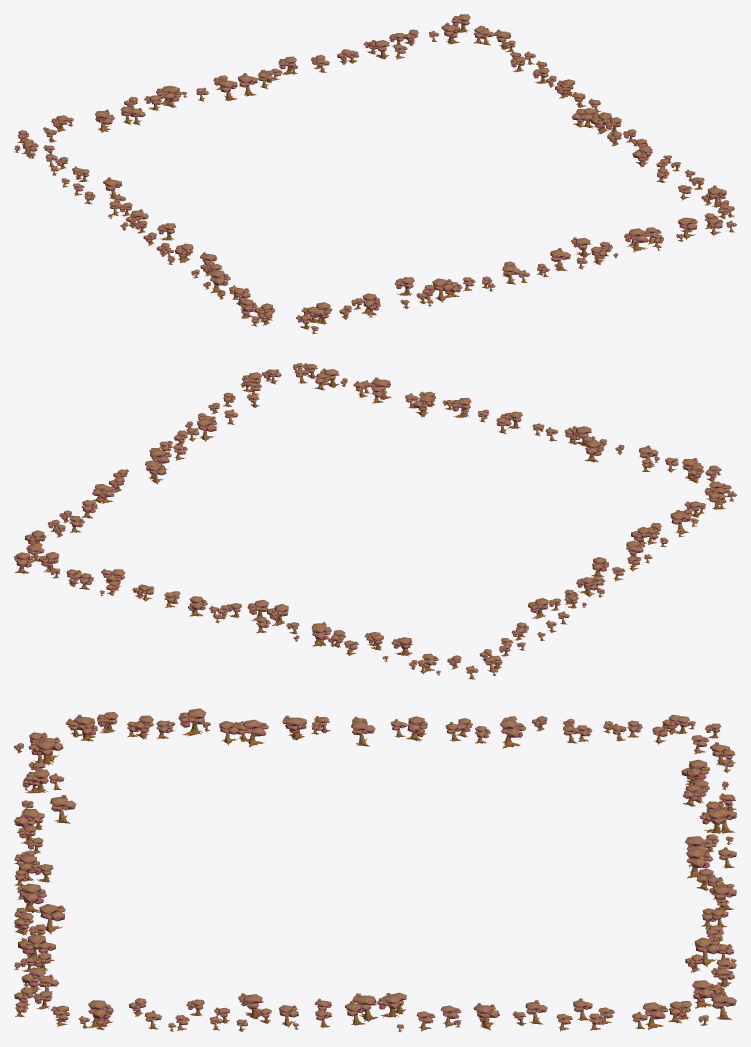
File: vegetation-arbres.glb
The picture shows the model from 3 angles, top to bottom: view 1: azimuth 30°, elevation 25°; view 2: azimuth 150°, elevation 25°; view 3: azimuth 270°, elevation 25°; orthographic projection. The views are drawn at different scales.
Visible parts, largest first — view 1: plat; view 2: plat; view 3: plat.
Part boxes in pixels (<box>): plat: <box>14,14,736,334</box>; plat: <box>14,363,736,679</box>; plat: <box>14,708,736,1032</box>.
Bounding box in the file's own units: 191 × 7.42 × 191.
Materials: 1 (1 with a texture image).
